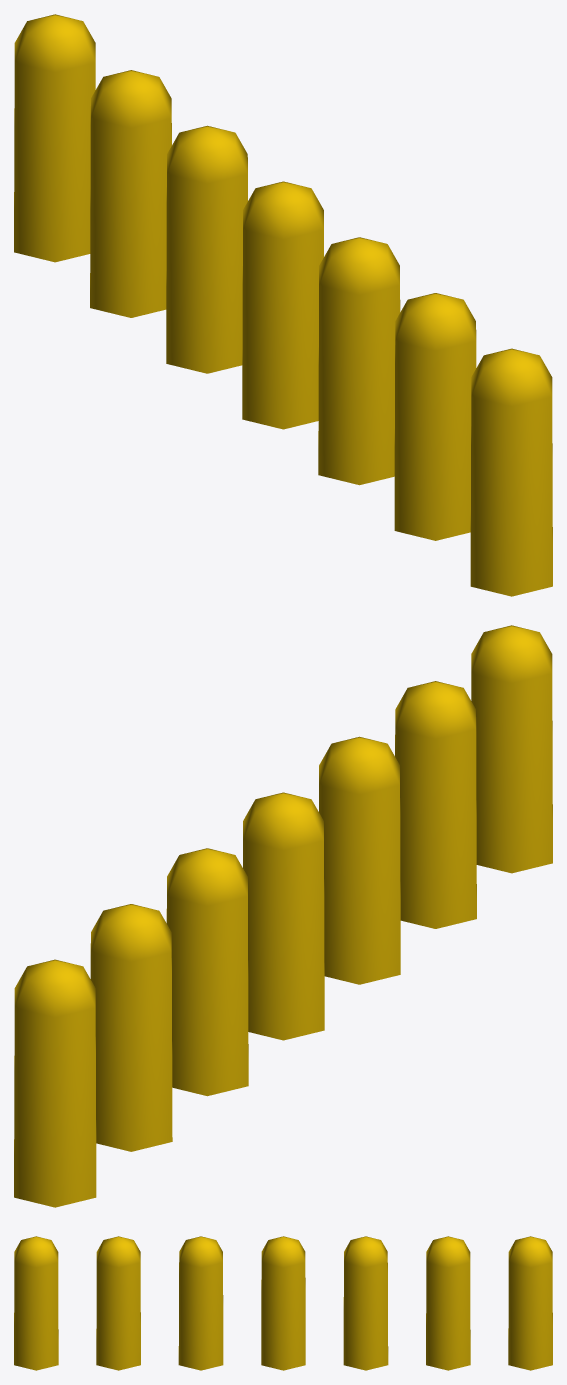
File: road_barrier.fbx
3 views of the same model, one above another, from view 1: azimuth 30°, elevation 25°; view 2: azimuth 150°, elevation 25°; view 3: azimuth 270°, elevation 25° (orthographic). The views are drawn at different scales.
Parts seen in each view (by area): view 1: road_barrier; view 2: road_barrier; view 3: road_barrier.
Boxes of the visible parts, x1,y1,x2,y2 form: road_barrier: (14, 14, 552, 596); road_barrier: (14, 625, 552, 1207); road_barrier: (14, 1236, 552, 1370).
Bounding box in the file's own units: 31.53 × 82.81 × 330.
